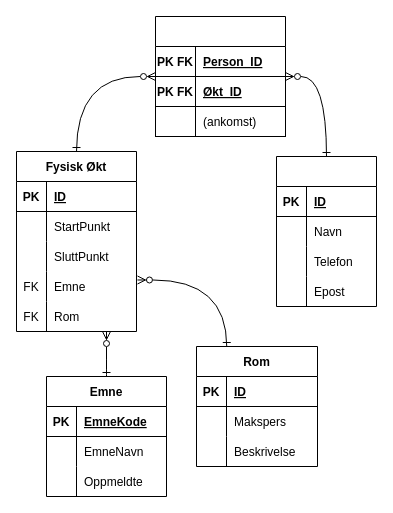
The diagram is 393 pixels wide and 513 high, and some of its shapes have lost their labels. Each missing label, with the box of its shape:
Person: (276, 156, 376, 306)
Person i Økt: (154, 16, 286, 136)
